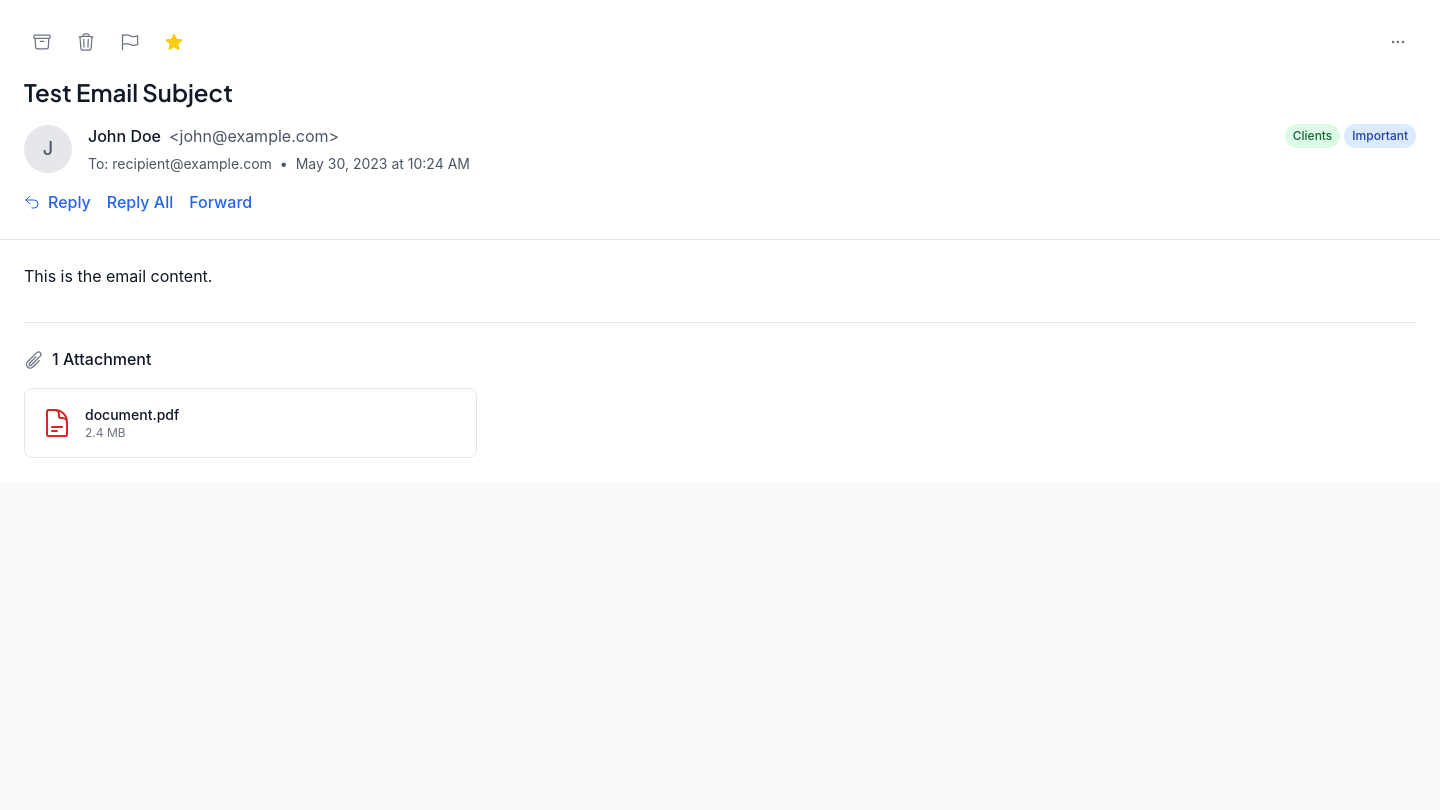
EmailViewer › hides reply box when cancel is clicked
Click the button "Reply": (57, 202) [24,190,91,215]
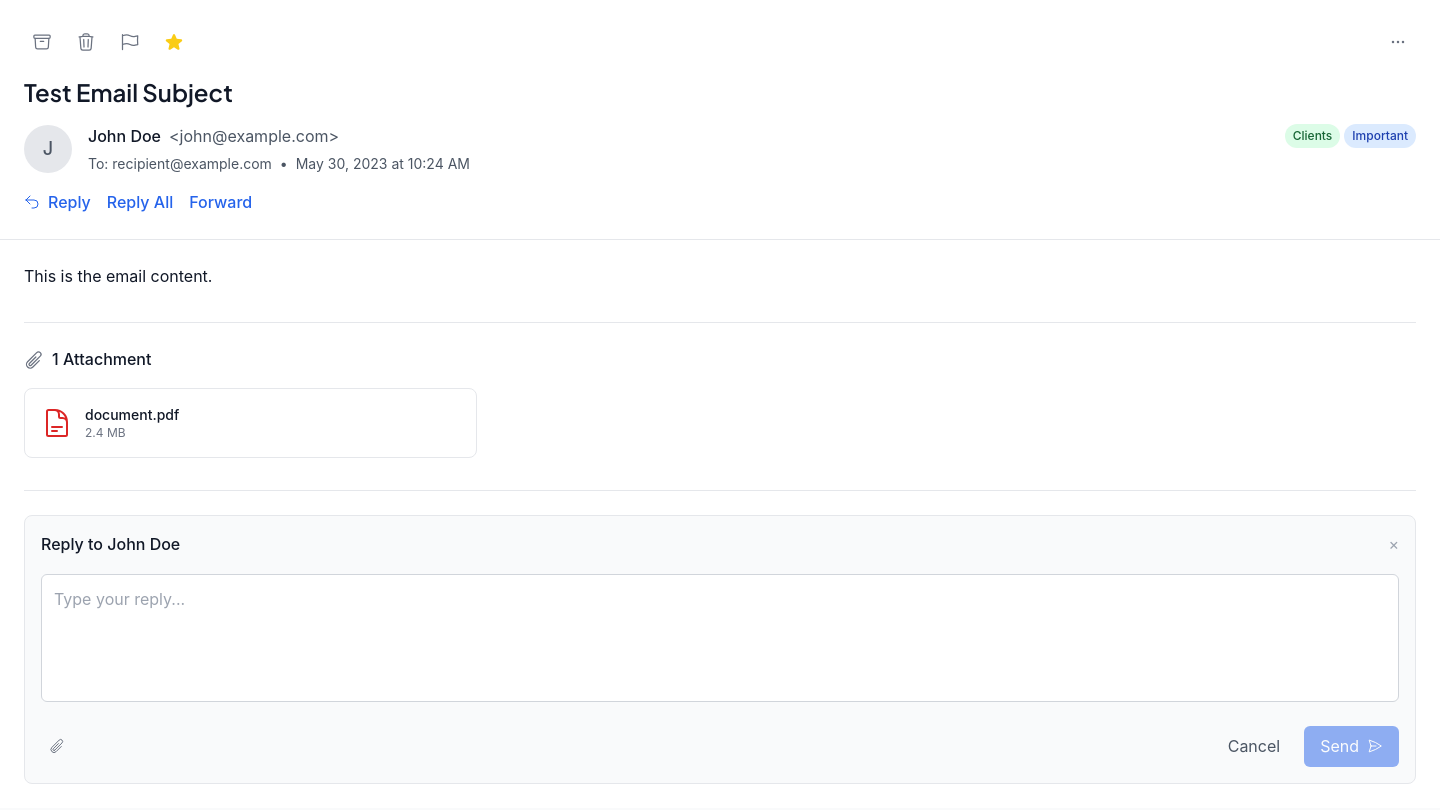
Check: the text "Reply to John Doe" is shown, box [41,532,180,558]
Click the button "Cancel": (1254, 746) [1212,726,1296,767]
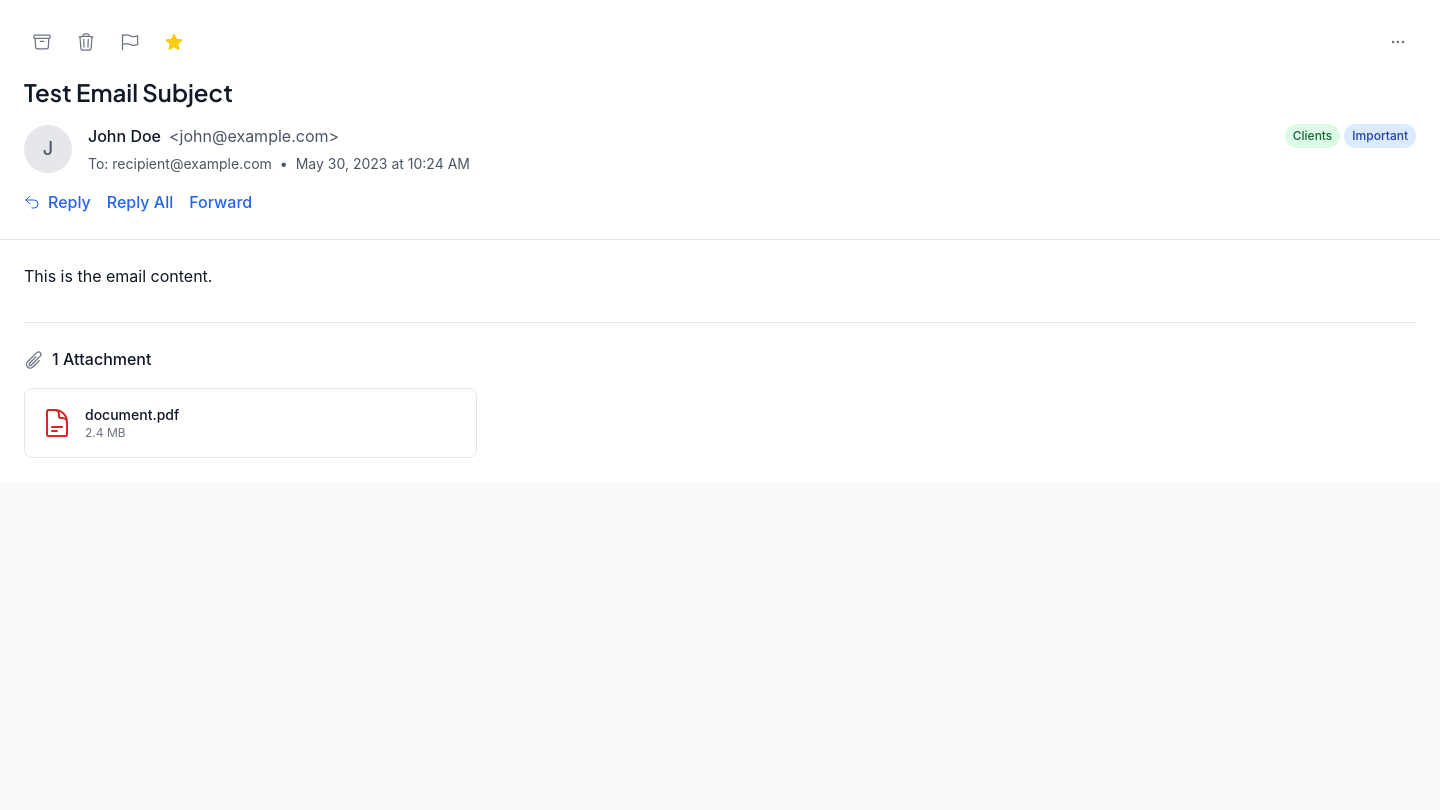
Check: the text "Reply to John Doe" is gone
